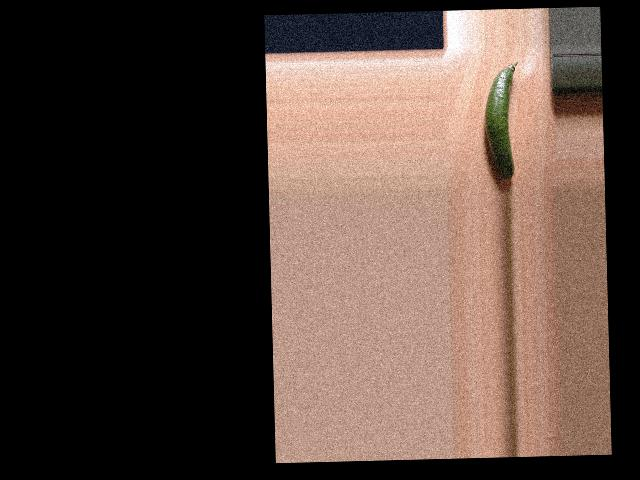cucumber: (482, 61, 520, 180)
